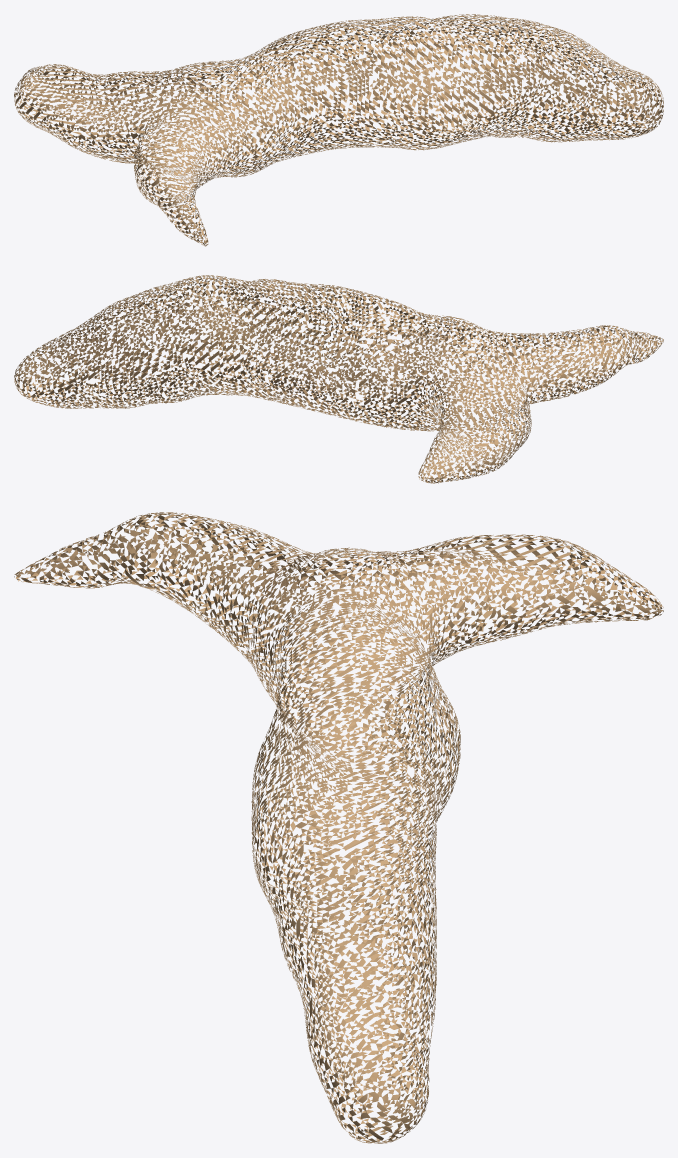
The model's file is morph_006.glb.
3 views of the same model, one above another, from view 1: azimuth 30°, elevation 25°; view 2: azimuth 150°, elevation 25°; view 3: azimuth 270°, elevation 25° (orthographic). The views are drawn at different scales.
Size of the model in its own units: 113 by 34.48 by 73.11.
